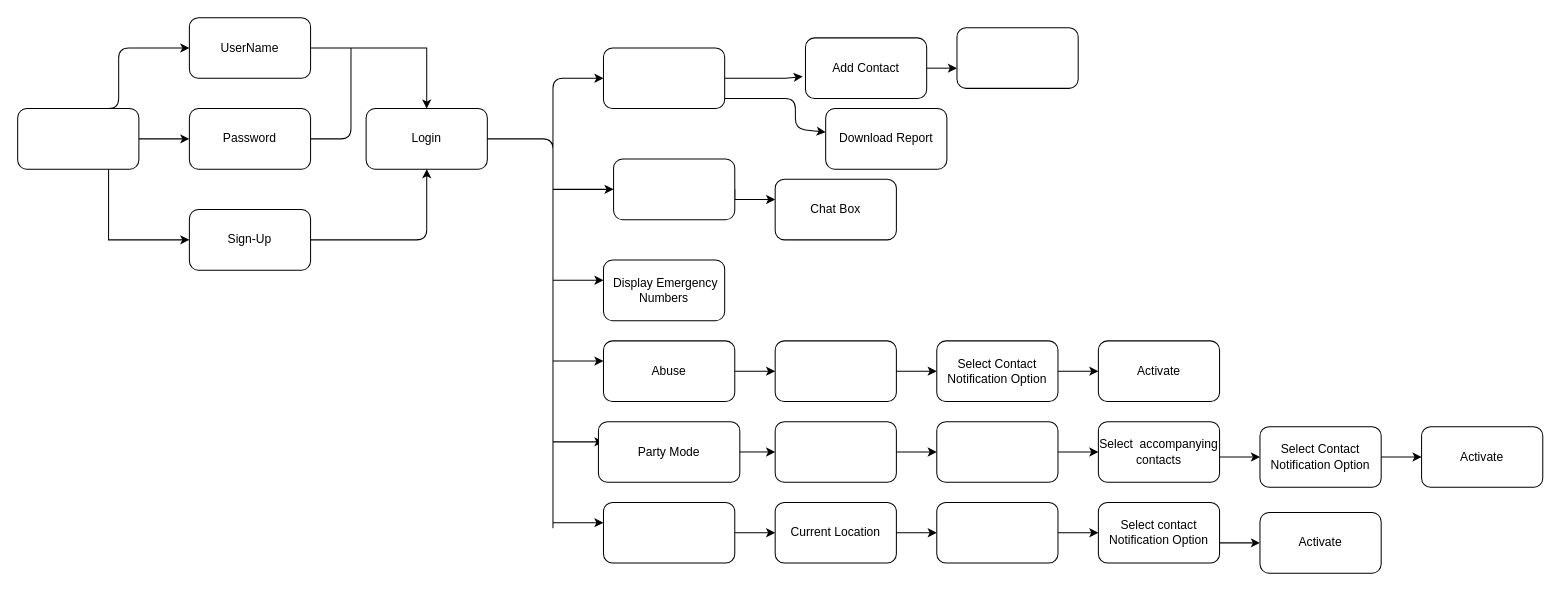
Image size: 1560x591. Some labels were removed from this diagram. Here are the shapes that lost their labels. From the top down, the centre of each, then its label:
At [1017,57]: "Save Contact".
At [663,78]: "Me".
At [78,138]: "User".
At [674,189]: "Secret Chat".
At [835,370]: "Select options".
At [835,451]: "Select current location".
At [997,451]: "Select expected home location".
At [668,532]: "Walking Mode".
At [997,532]: "Destination".
